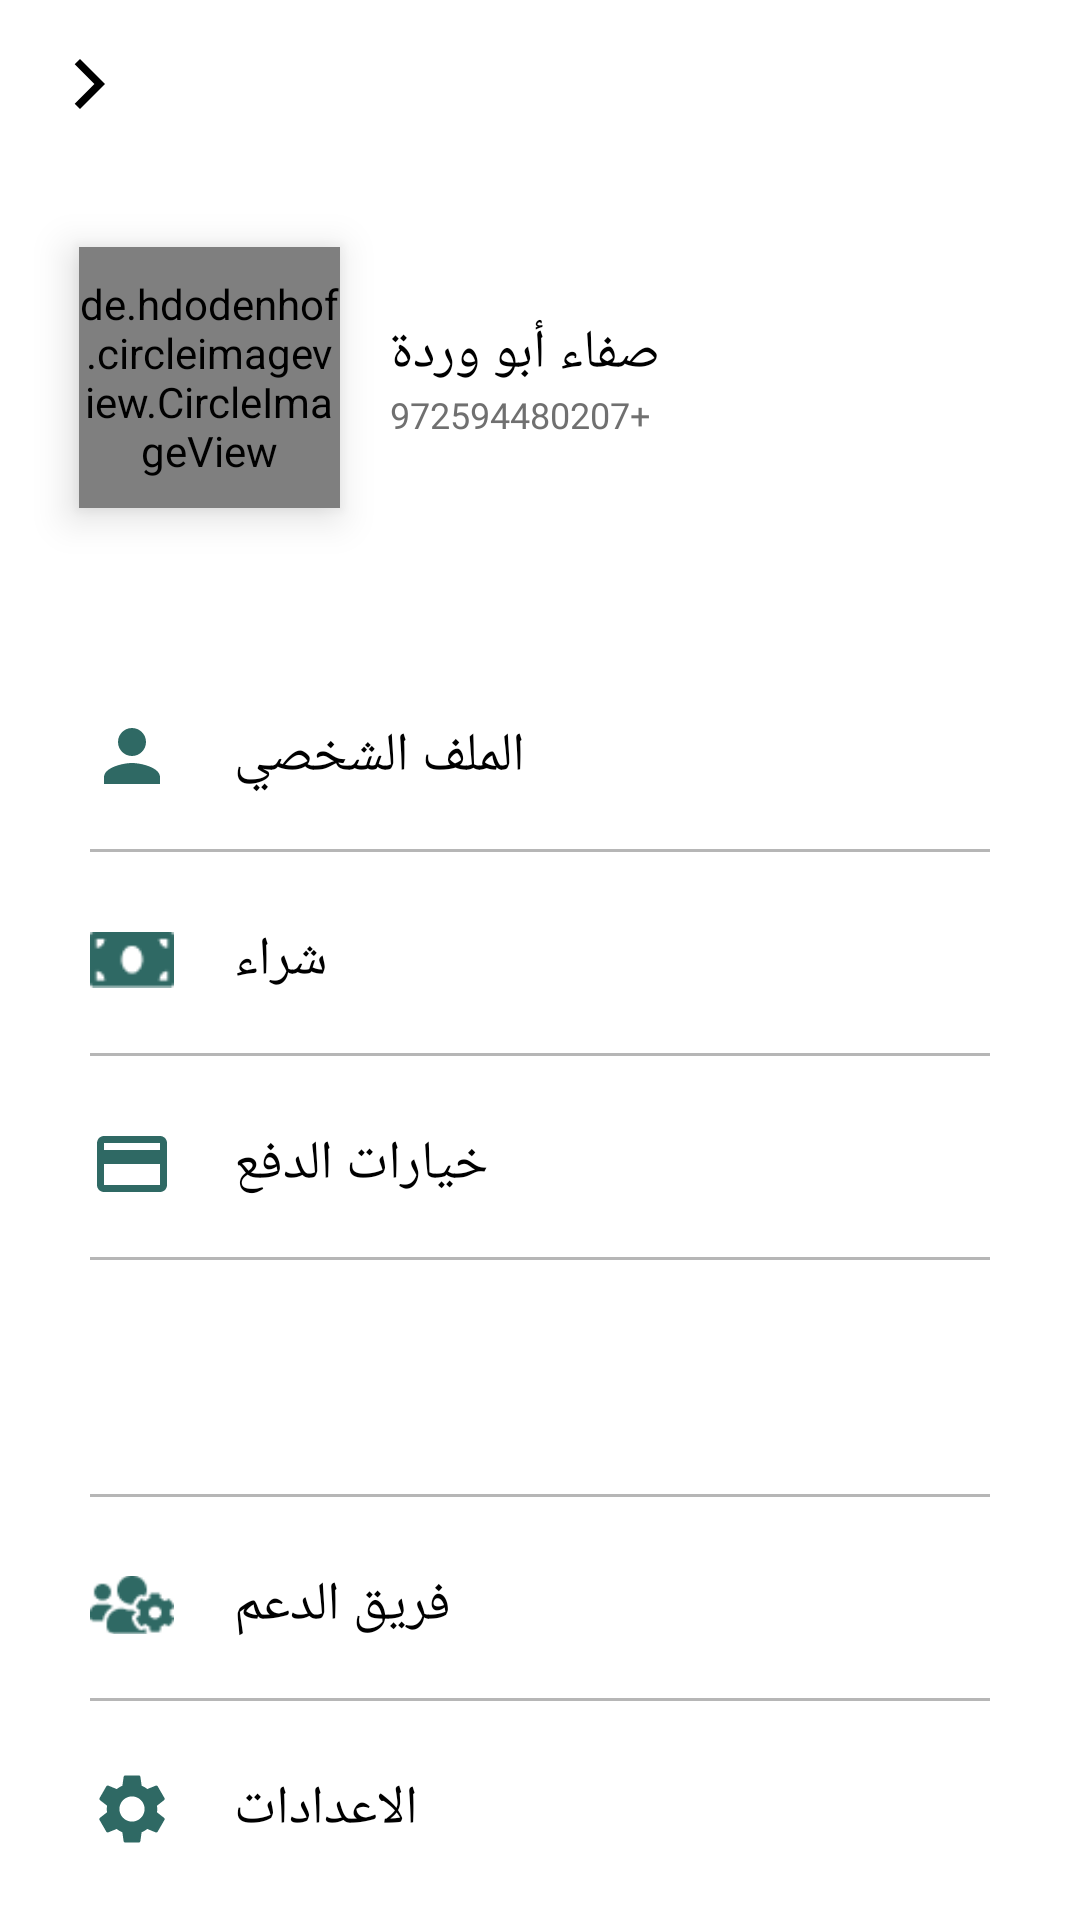

Icon bounding boxes for this 1080px x 1920px phone screenshot, format (x1, y1, x2, y2):
arrow forward: (75, 59, 105, 109)
credit card: (97, 1136, 167, 1192)
moneybill: (90, 932, 174, 988)
person: (104, 728, 160, 784)
settings: (99, 1775, 165, 1843)
userssolid: (90, 1576, 174, 1634)
